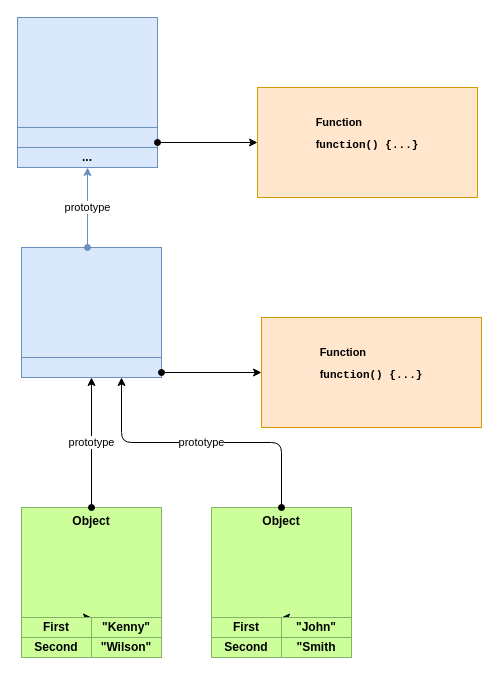
This 499x675 diagram has some shape labels left out. The shapes that lost their labels are listed below. From the top down, each one's centre as x and y in pixels, then its label:
At point 87,72: "Object.prototype".
At point 87,137: "toString".
At point 91,302: "NameProto".
At point 91,367: "fullName".
